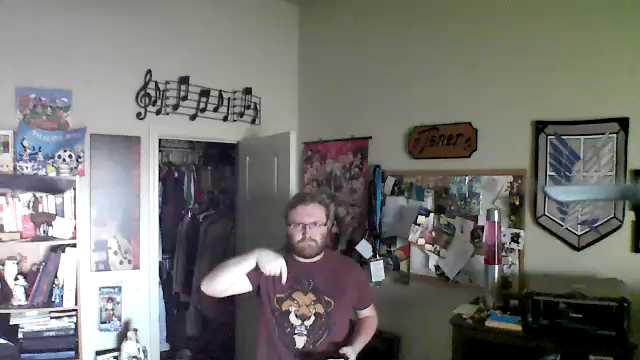down: (248, 240, 291, 289)
